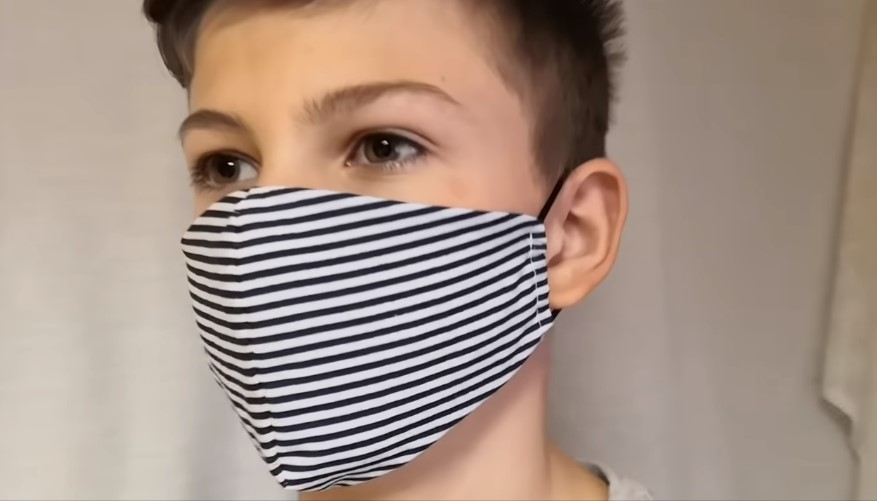face_with_mask: (143, 4, 633, 500)
